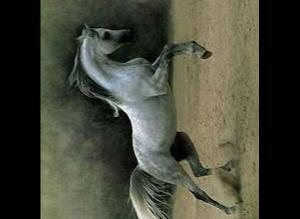horse: (66, 21, 236, 219)
